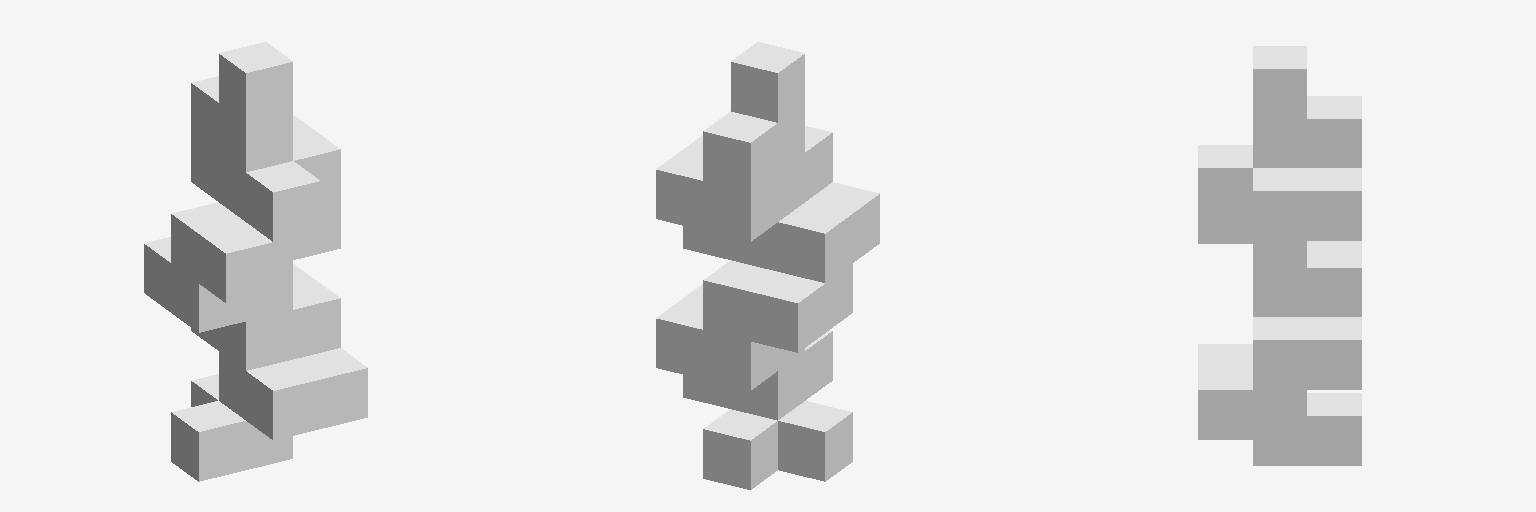
Rendered from farm-28-tomato_growth3.obj.
3 views of the same model, side by side, from view 1: azimuth 30°, elevation 25°; view 2: azimuth 150°, elevation 25°; view 3: azimuth 270°, elevation 25° (orthographic).
Parts seen in each view (by area): view 1: tomato_growth3; view 2: tomato_growth3; view 3: tomato_growth3.
Part boxes in pixels (x1,y1,x2,y2): tomato_growth3: (144, 42, 367, 481); tomato_growth3: (656, 42, 879, 489); tomato_growth3: (1198, 46, 1361, 465).
Bounding box in the file's own units: 0.3 × 0.8 × 0.3.